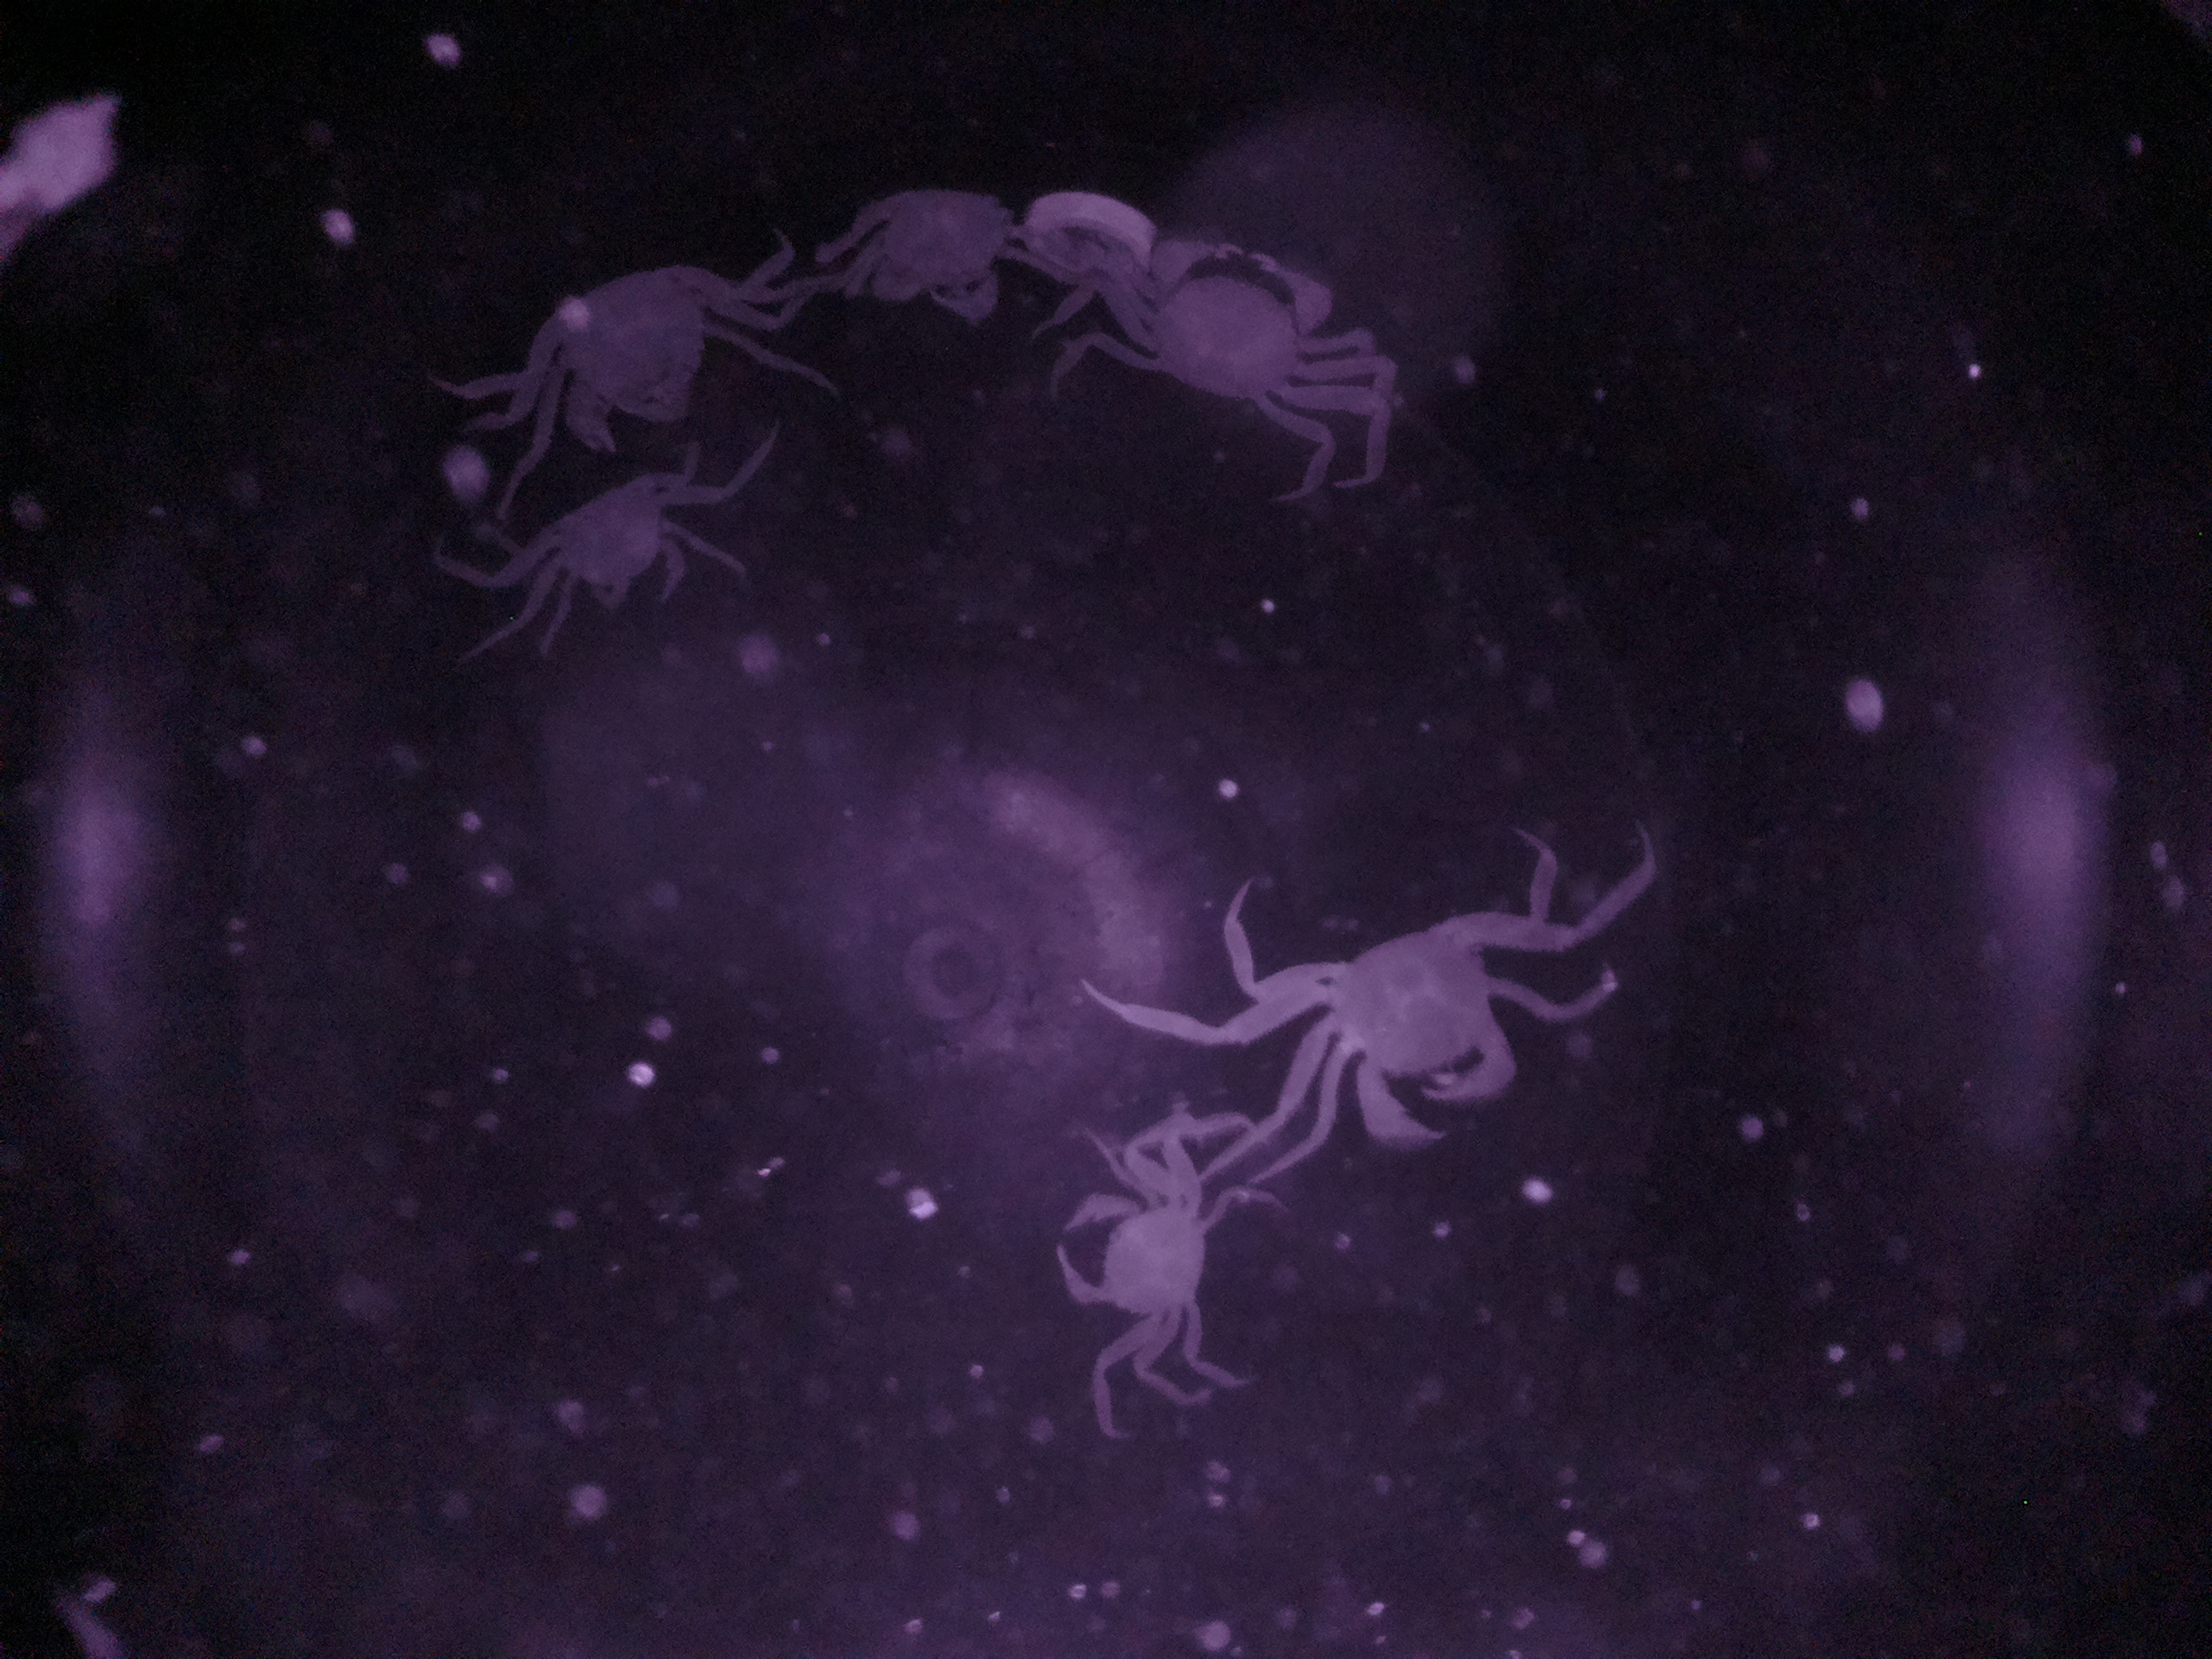Crab: (1233, 896, 1561, 1162), (1094, 221, 1350, 436), (1040, 1154, 1231, 1354), (512, 451, 723, 612)
